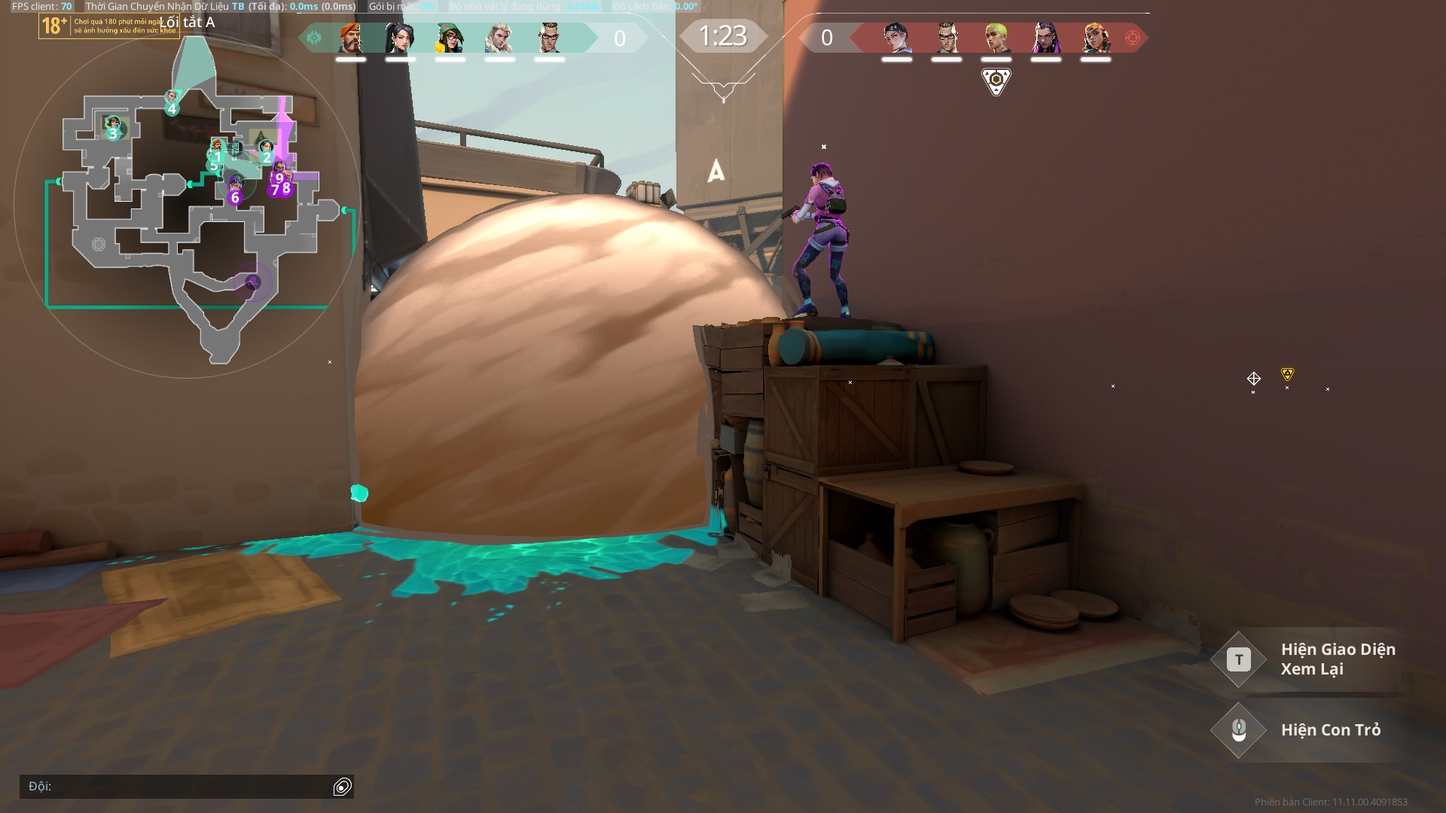body: (811, 179, 847, 220)
head: (809, 163, 831, 182)
